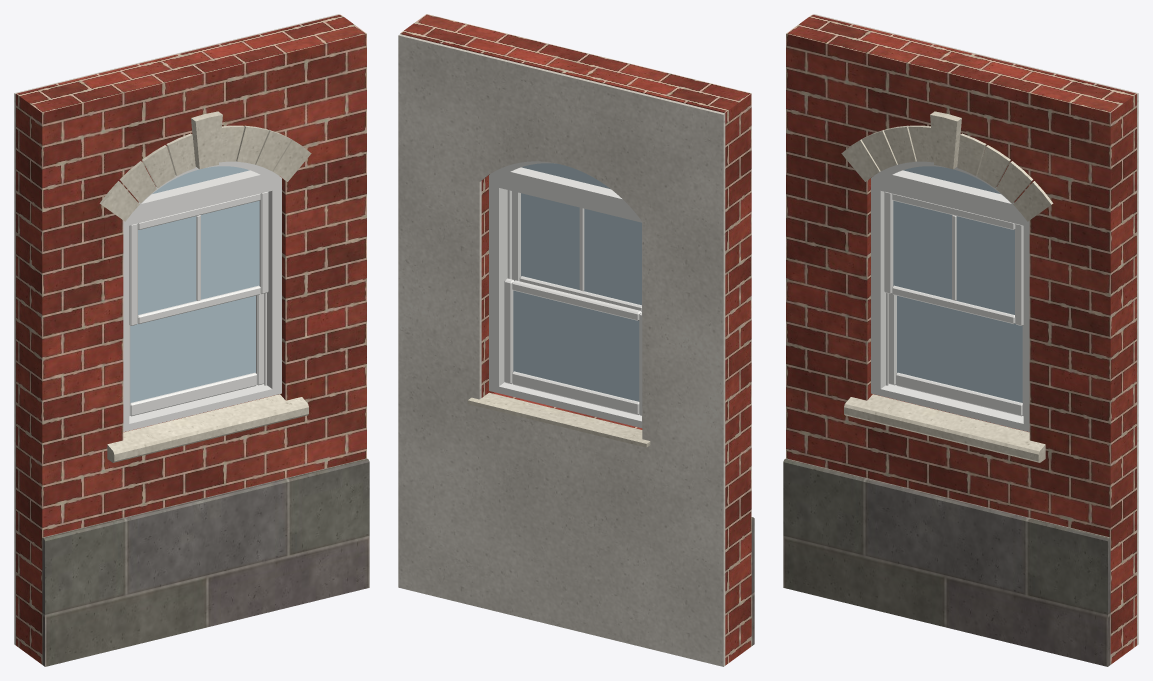
File: o_g_window.glb
The picture shows the model from 3 angles, left to right: view 1: azimuth 30°, elevation 25°; view 2: azimuth 150°, elevation 25°; view 3: azimuth 330°, elevation 25°; orthographic projection.
Parts seen in each view (by area): view 1: o_g_window_brick, o_g_window_plinth, o_g_window_glass, o_g_window_trim, o_g_window_frame, o_g_window_sash, o_g_window_plaster; view 2: o_g_window_plaster, o_g_window_brick, o_g_window_glass, o_g_window_frame, o_g_window_sash, o_g_window_trim; view 3: o_g_window_brick, o_g_window_plinth, o_g_window_glass, o_g_window_trim, o_g_window_frame, o_g_window_sash, o_g_window_plaster.
Part boxes in pixels (box(x1,y1,x2,y2)): o_g_window_brick: box(16, 14, 366, 664); o_g_window_plinth: box(42, 458, 369, 666); o_g_window_glass: box(130, 166, 259, 402); o_g_window_trim: box(99, 111, 311, 462); o_g_window_frame: box(123, 161, 281, 431); o_g_window_sash: box(129, 191, 268, 416); o_g_window_plaster: box(14, 14, 339, 645); o_g_window_plaster: box(398, 34, 725, 666); o_g_window_brick: box(400, 14, 751, 665); o_g_window_glass: box(513, 163, 641, 401); o_g_window_frame: box(489, 161, 642, 427); o_g_window_sash: box(504, 191, 641, 415); o_g_window_trim: box(467, 392, 650, 447); o_g_window_brick: box(786, 14, 1136, 664); o_g_window_plinth: box(783, 458, 1110, 666); o_g_window_glass: box(893, 166, 1022, 402); o_g_window_trim: box(841, 111, 1053, 462); o_g_window_frame: box(871, 161, 1029, 431); o_g_window_sash: box(884, 191, 1023, 416); o_g_window_plaster: box(813, 14, 1138, 645).
Bounding box in the file's own units: 2 × 3.25 × 0.415.
Materials: 7 (4 with a texture image).
